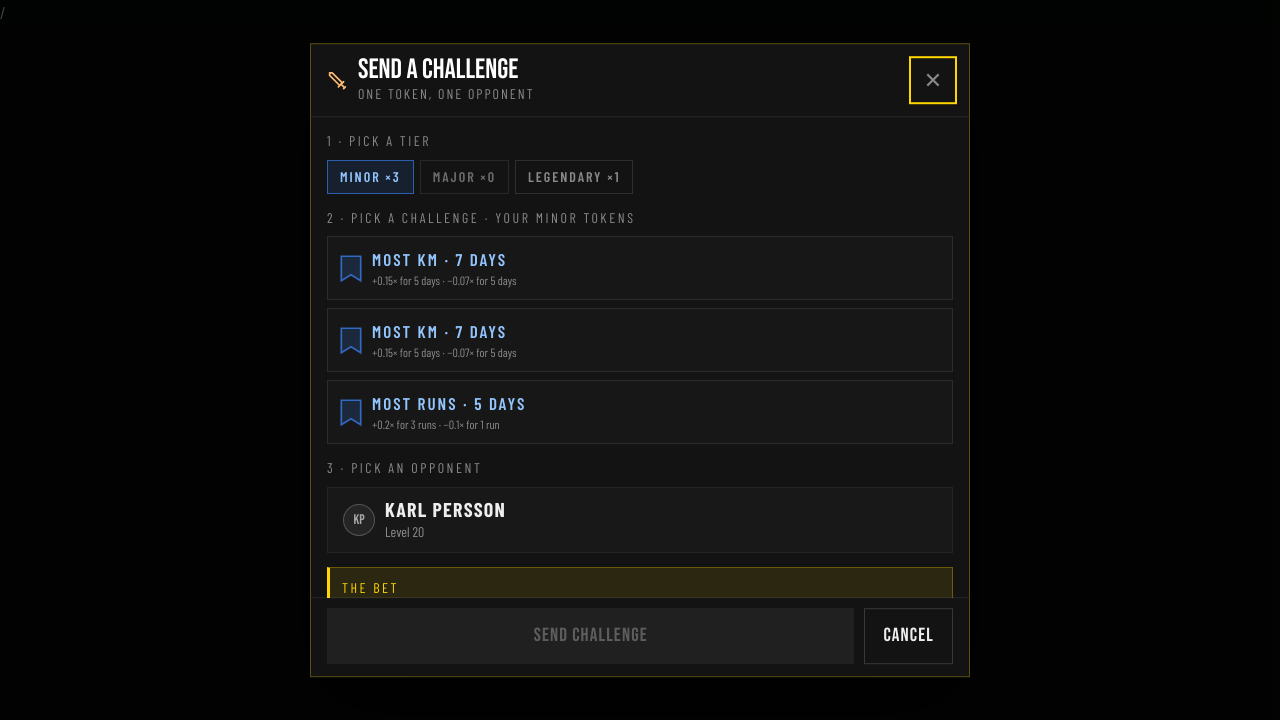
Test case: Send flow step 1: tier chips › an empty tier cannot be chosen: it is aria-disabled, explains itself and leaves the choice as it was
Click the button "Major ×0": (464, 177) 420,160 -> 509,194
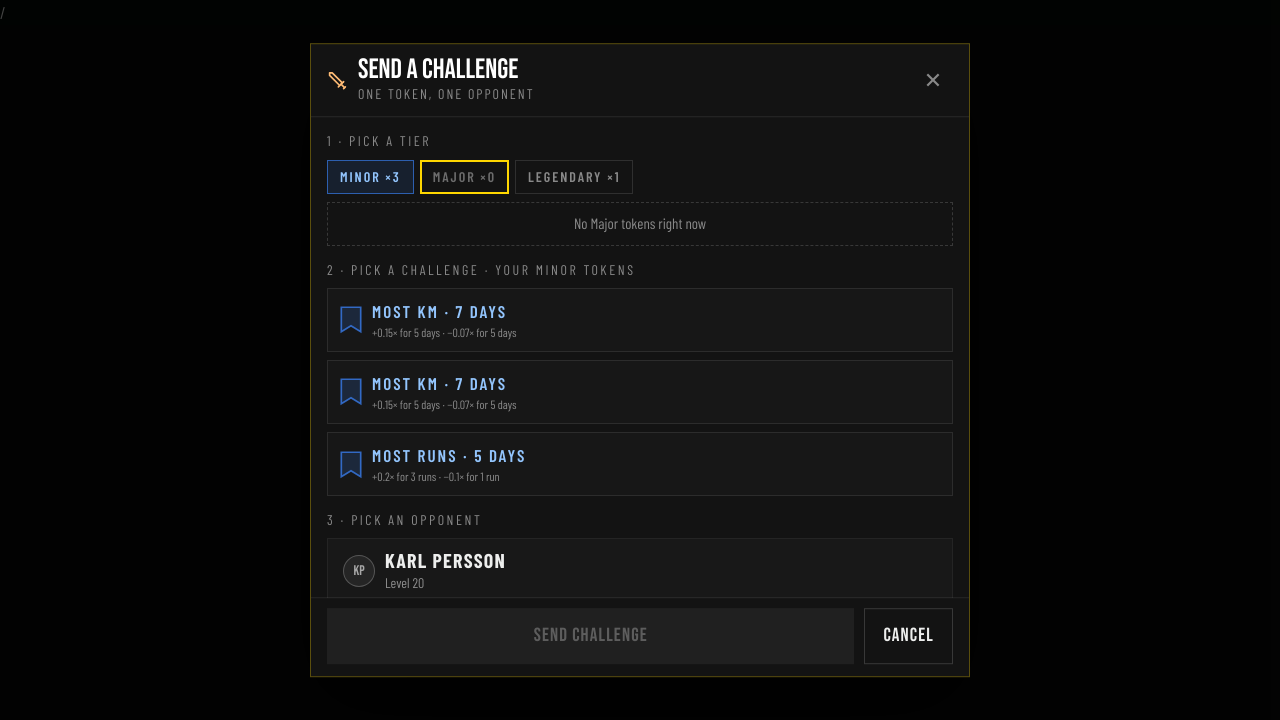
Now the message reads "No Major tokens right now", box 327,202 -> 953,246
